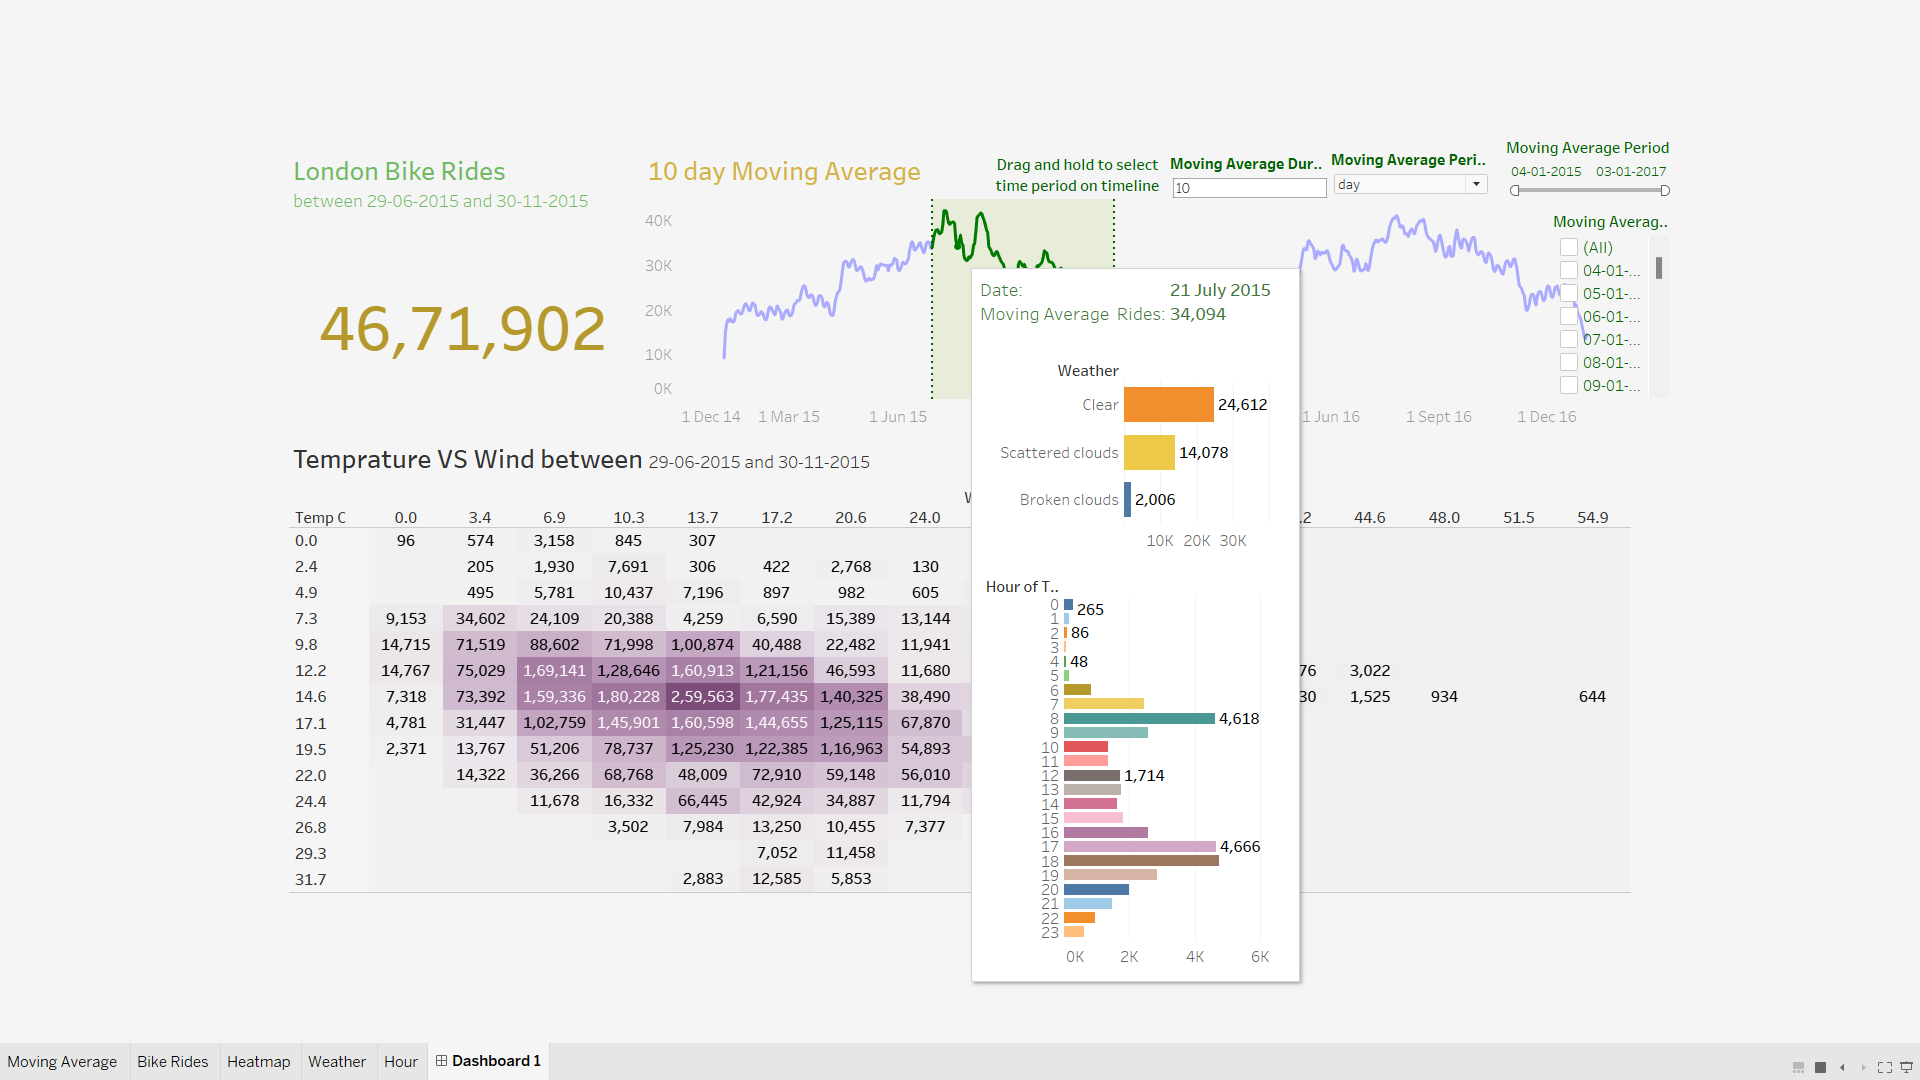

Layout of this report page (visuals, bound fields, positions):
{"tool":"tableau","page":{"name":"Dashboard 1","canvas":[1366,768],"ordinal":0},"visuals":[{"type":"worksheet","title":"Bike Rides","mark":"Automatic","box":[8,8,355,288]},{"type":"worksheet","title":"Moving Average","mark":"Automatic","rows":["Calculation1"],"cols":["Calculation_184929103509639168"],"box":[363,8,995,288]},{"type":"parameter","param":"[Parameters].[Parameter 1]","box":[1054,12,160,48]},{"type":"parameter","param":"[Parameters].[Parameter 2]","box":[893,16,160,48]},{"type":"text","box":[715,17,171,42]},{"type":"worksheet","title":"Heatmap","mark":"Square","rows":["temp real C (bin)"],"cols":["Wind Speed Kph (bin)"],"box":[8,296,1350,464]}]}

Visuals, with their boxes on the page's 1366x768 design canvas (x1, y1, x2, y2). These are canvas units, not pixel positions in the 1920x1080 screenshot, which may show the page scaled, cropped or inside an application window:
"Bike Rides" worksheet: locate(8, 8, 363, 296)
"Moving Average" worksheet: locate(363, 8, 1358, 296)
parameter: locate(1054, 12, 1214, 60)
parameter: locate(893, 16, 1053, 64)
text: locate(715, 17, 886, 59)
"Heatmap" worksheet (Square marks): locate(8, 296, 1358, 760)
